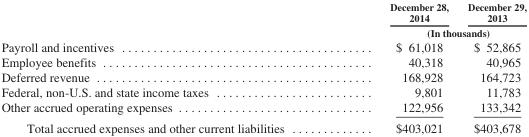table: (0, 1, 525, 134)
table column: (0, 1, 336, 134), (336, 1, 457, 134), (457, 1, 525, 134)
table column header: (0, 1, 525, 38)
table row: (0, 1, 525, 24), (0, 99, 525, 117), (0, 117, 525, 134), (0, 38, 525, 54), (0, 54, 525, 69), (0, 69, 525, 84), (0, 84, 525, 99), (0, 24, 525, 38)
table spanning cell: (336, 24, 525, 38)
